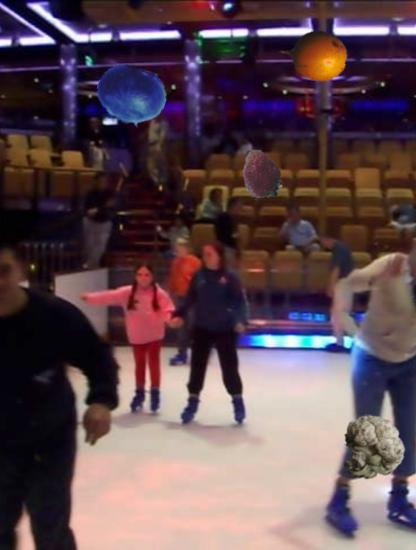Cauliflower: (337, 415, 405, 483)
Granadilla: (272, 16, 349, 93)
Huckleberry: (96, 60, 167, 131)
Strawberry: (235, 150, 287, 202)
